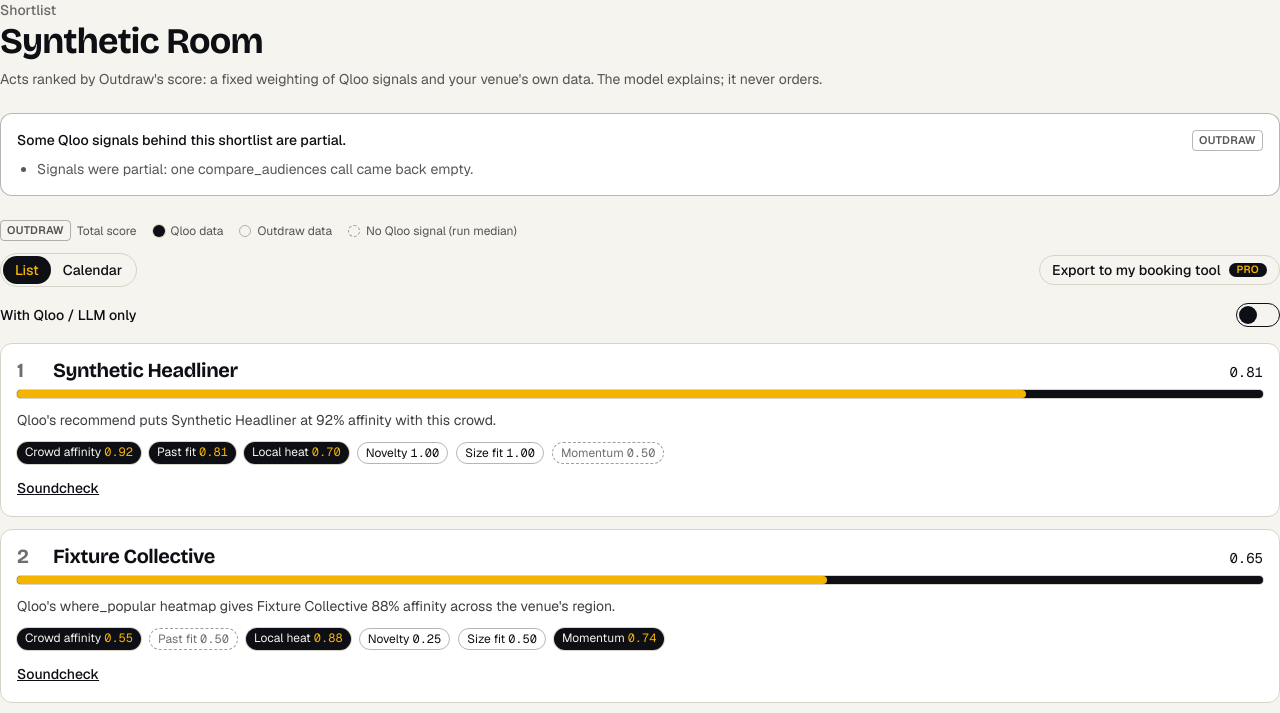
Scenario: With Qloo / LLM only toggle › says the list waits for live analysis on 429 budget, with no error
Click the switch named "With Qloo / LLM only" at (1258, 315), box [1236, 303, 1279, 327]
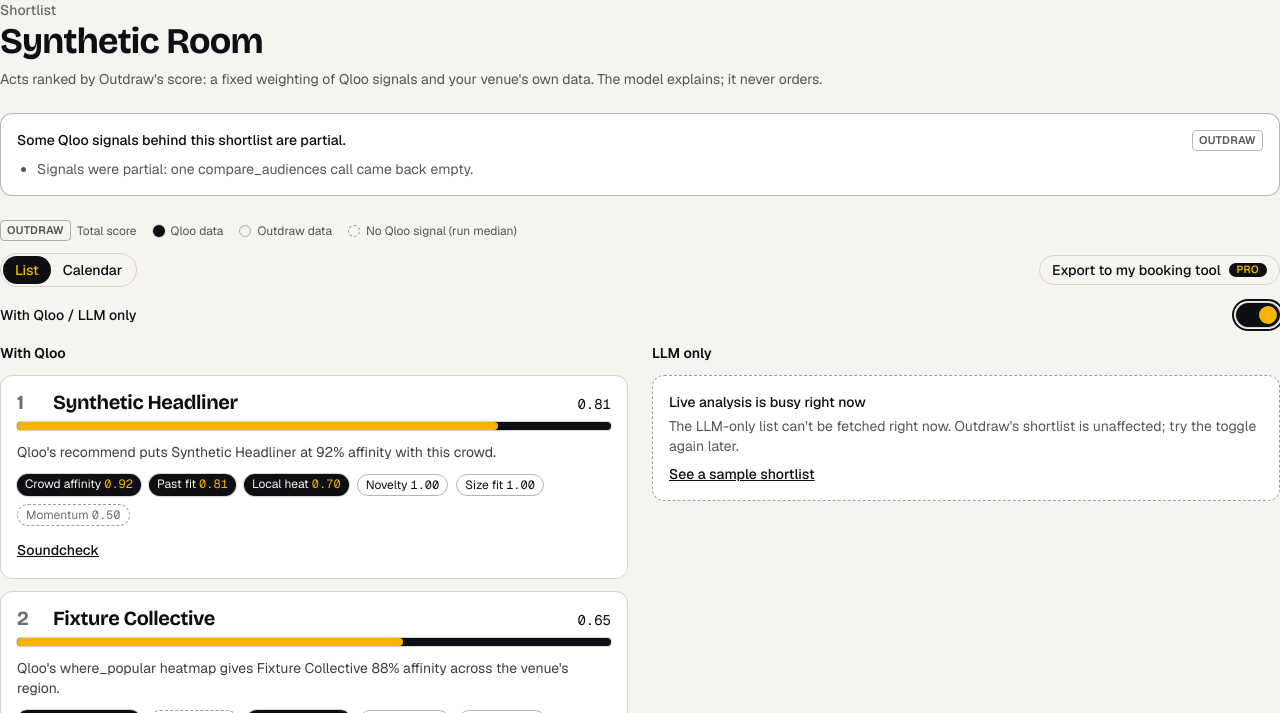
Now the message named "Live analysis paused" shows "LLM-only list can't be fetched right now", box [669, 417, 1256, 455]
